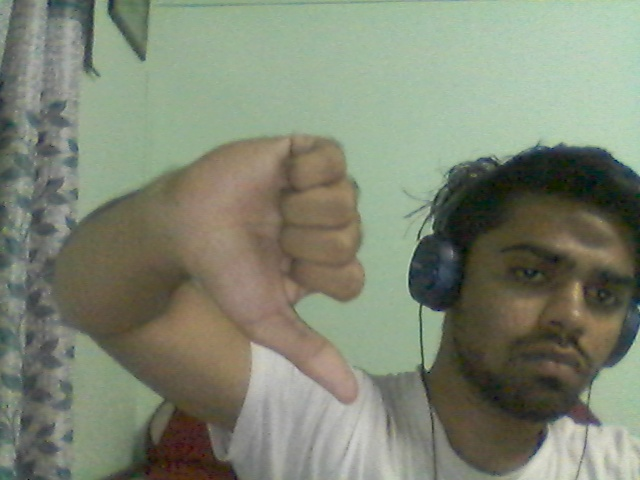No: (135, 114, 396, 429)
